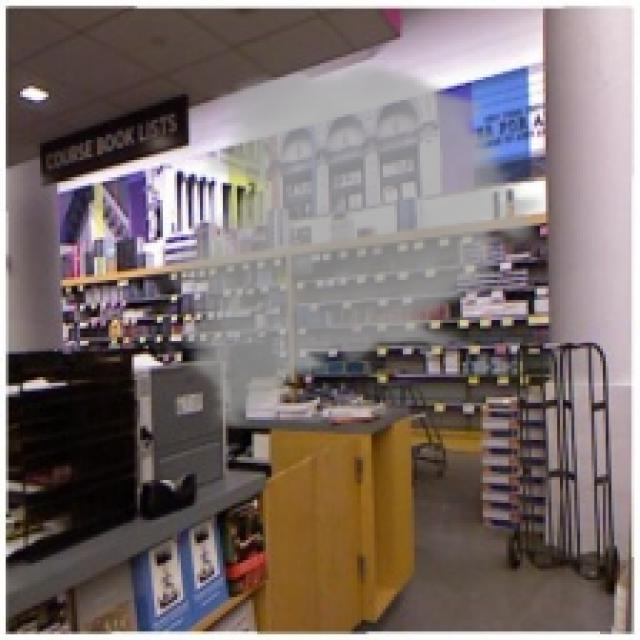smoke: (148, 57, 552, 429)
